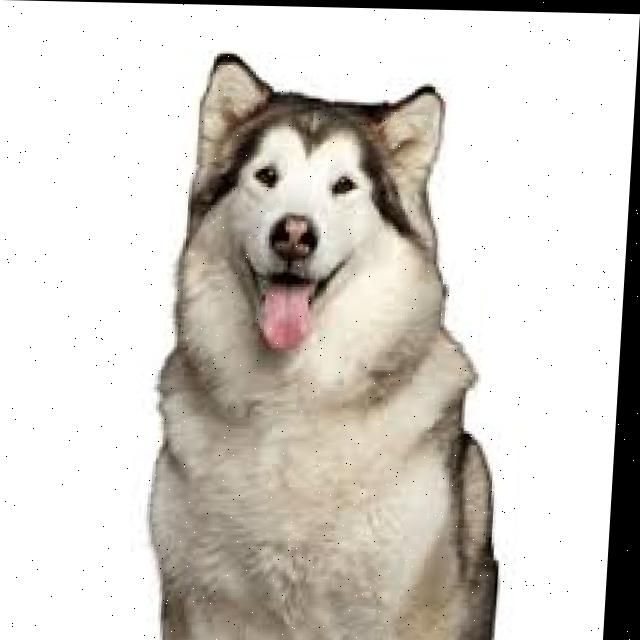ALASKAN_MALAMUTE: (126, 42, 558, 640)
